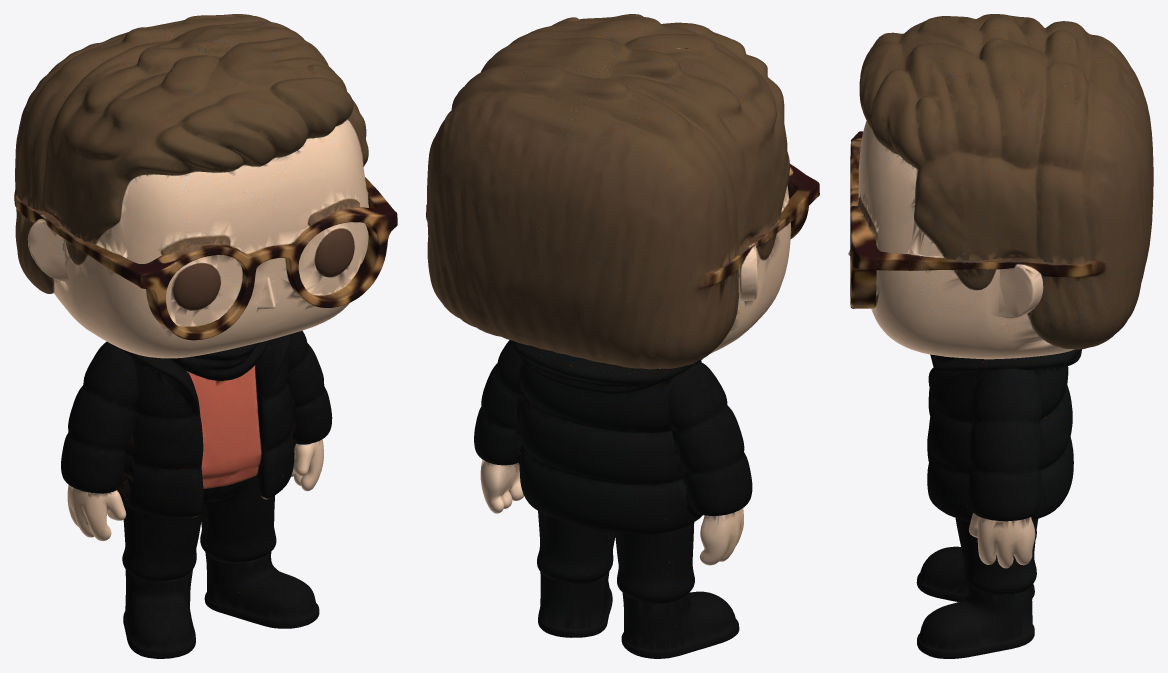
Rendered from vinyl-figure-split2.glb.
3 renders of one model, left to right at view 1: azimuth 30°, elevation 25°; view 2: azimuth 150°, elevation 25°; view 3: azimuth 270°, elevation 25°, orthographic. The views are drawn at different scales.
Visible parts, largest first — view 1: body, armR, armL; view 2: body, armR, armL; view 3: body, armL.
Boxes of the visible parts, x1,y1,x2,y2 form: body: (14,14,397,658); armR: (61,347,137,540); armL: (287,330,332,491); body: (426,14,819,658); armR: (670,367,752,565); armL: (474,340,525,513); body: (848,14,1153,658); armL: (968,378,1042,568).
Size of the model in its own units: 0.1128 by 0.2 by 0.0961.
Materials: 1 (1 with a texture image).
